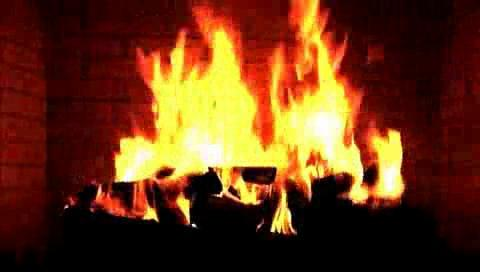fire: (106, 16, 416, 215)
